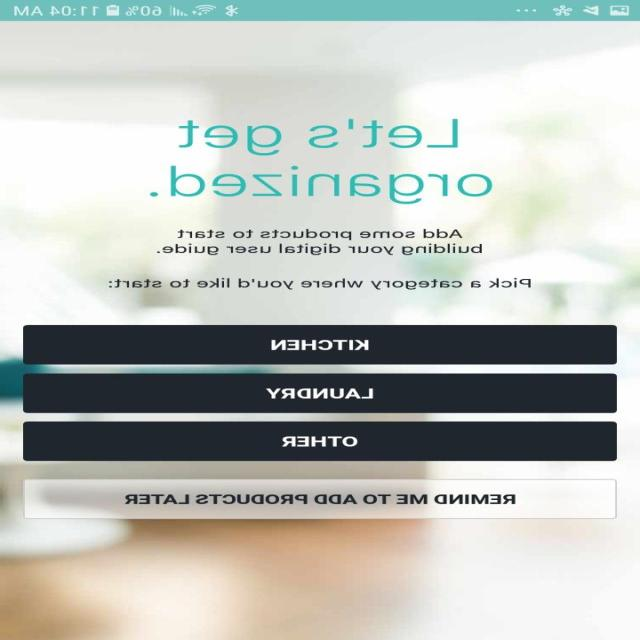BackgroundImage: (1, 21, 640, 640)
Text: (151, 118, 493, 204), (157, 228, 483, 256), (109, 278, 532, 290)
TextButton: (24, 478, 618, 519), (23, 421, 617, 461), (24, 373, 618, 413), (24, 324, 618, 364)
